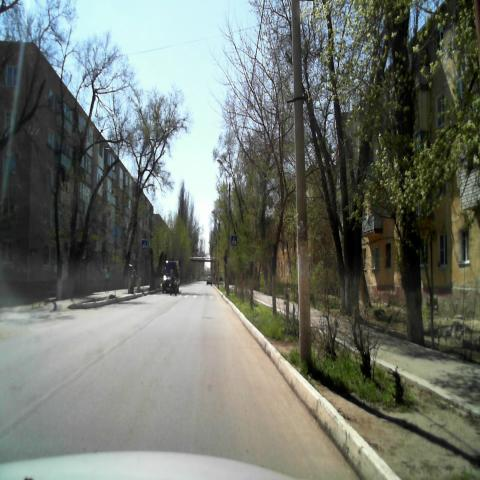5_19_1: (232, 236, 237, 246), (142, 240, 147, 249)
